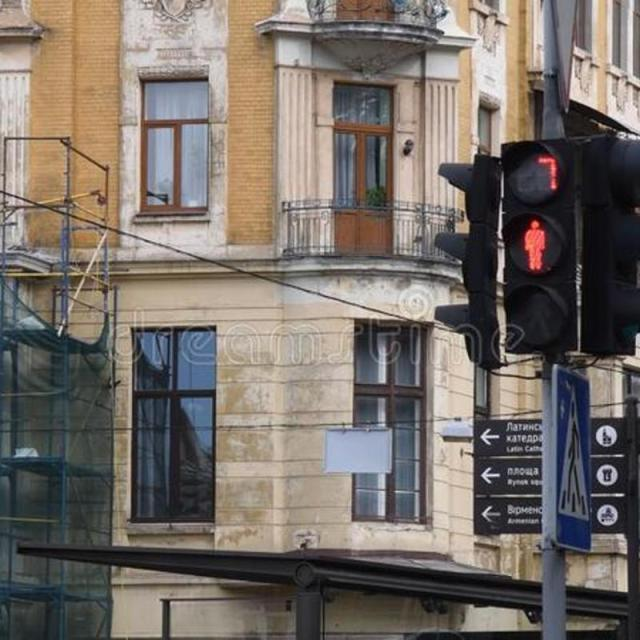red-crossing: (506, 212, 570, 276)
